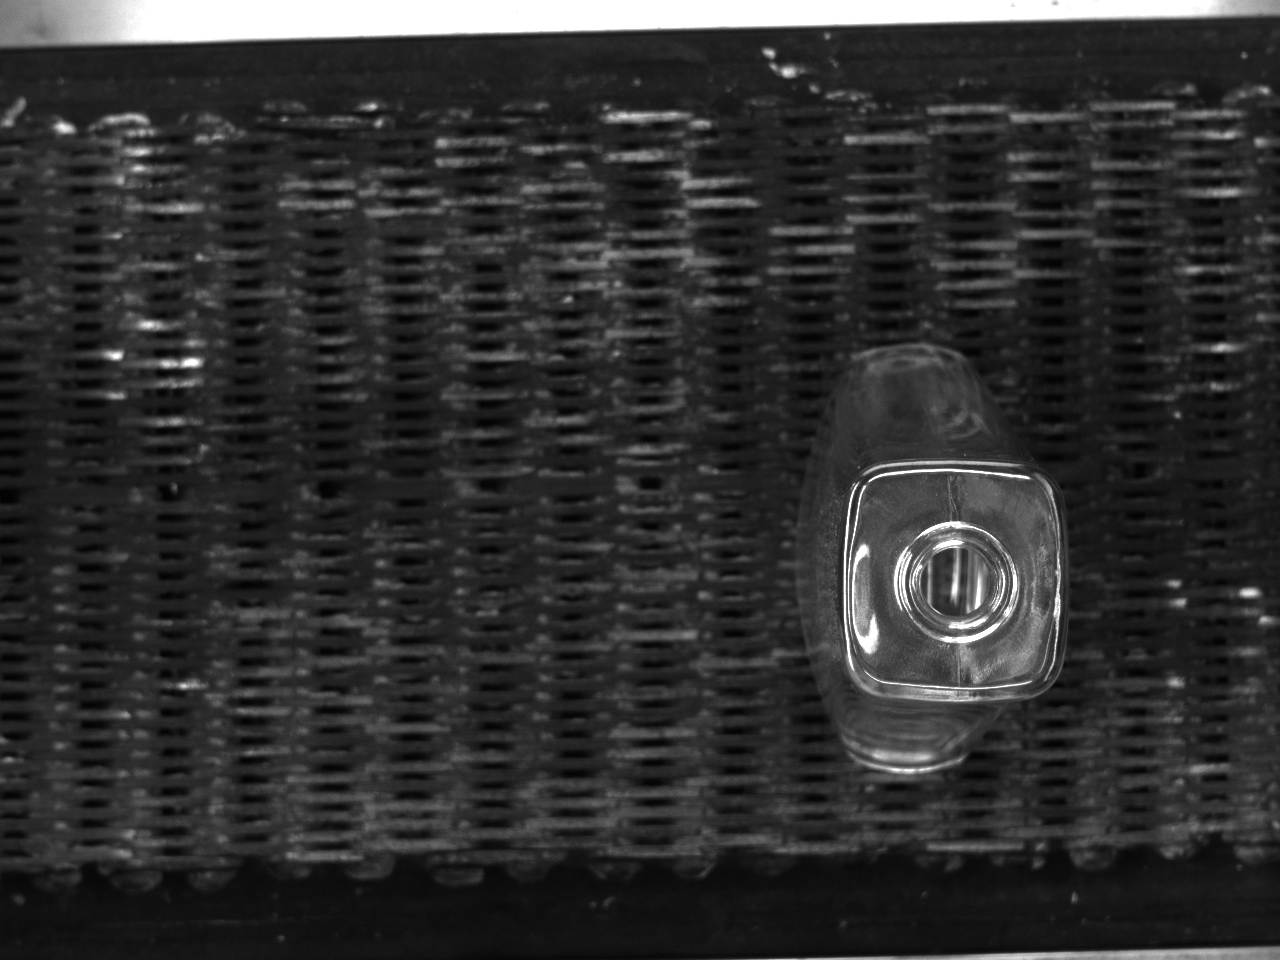bottleneck: (901, 521, 1019, 642)
